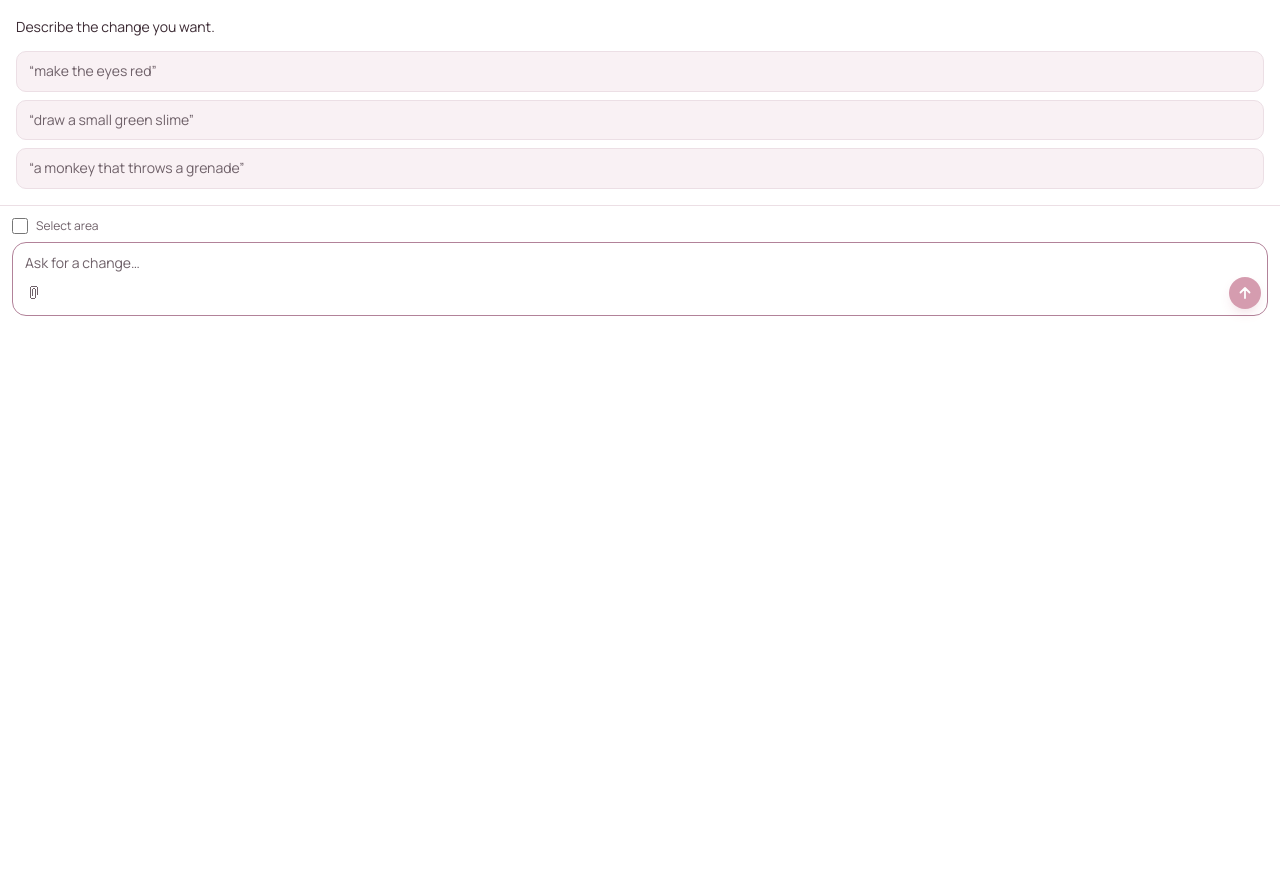
Test: AI chat submission › limits the outgoing history before the server decodes the request
The width and height of the screenshot is (1280, 893).
Check: the button named "Send" is disabled, box 1229,277 -> 1261,309
Type "draw a blood mage" into the text box named "Message" at (640, 260), box 13,243 -> 1267,277
(page scrolled)
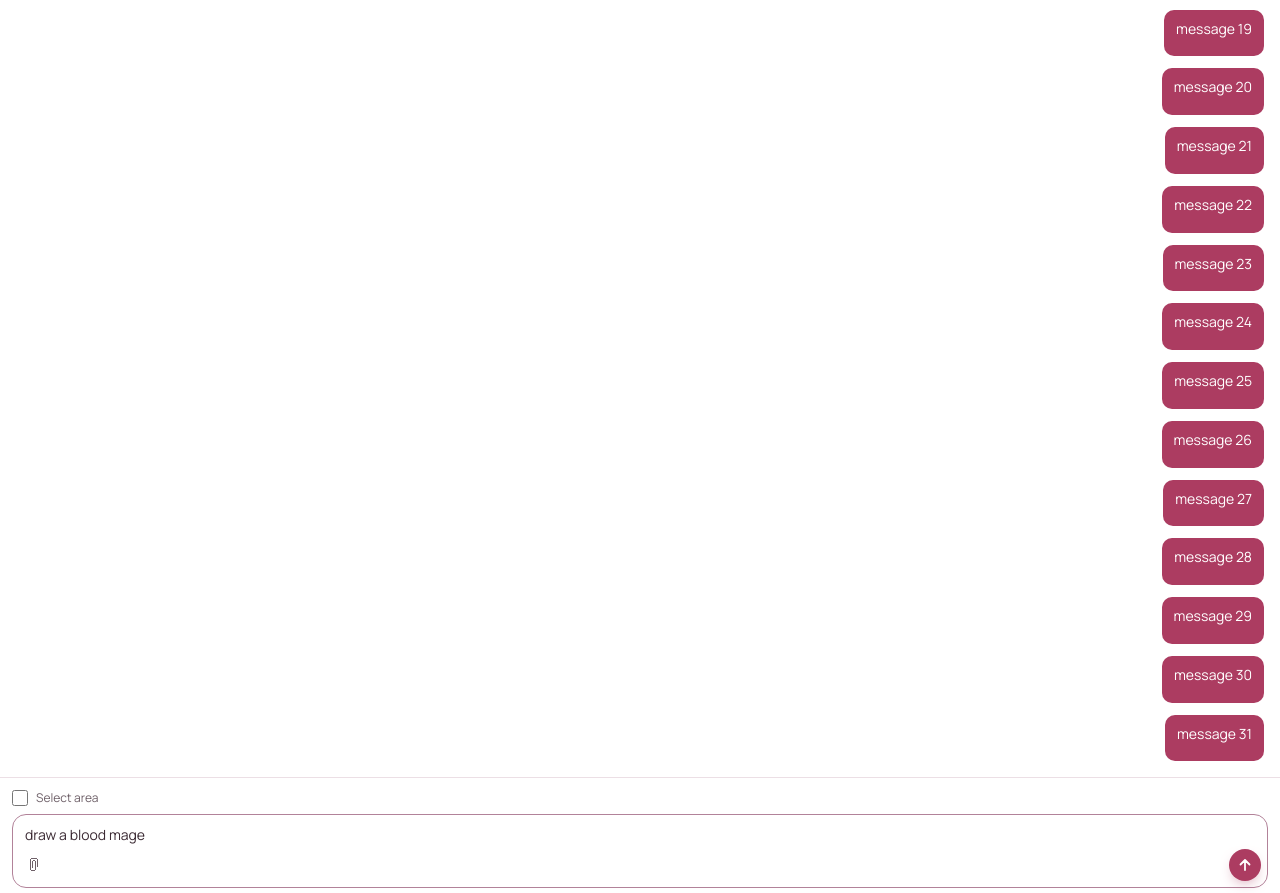
Check: the button named "Send" is enabled
Click the button named "Send" at (1245, 865), box 1229,849 -> 1261,881
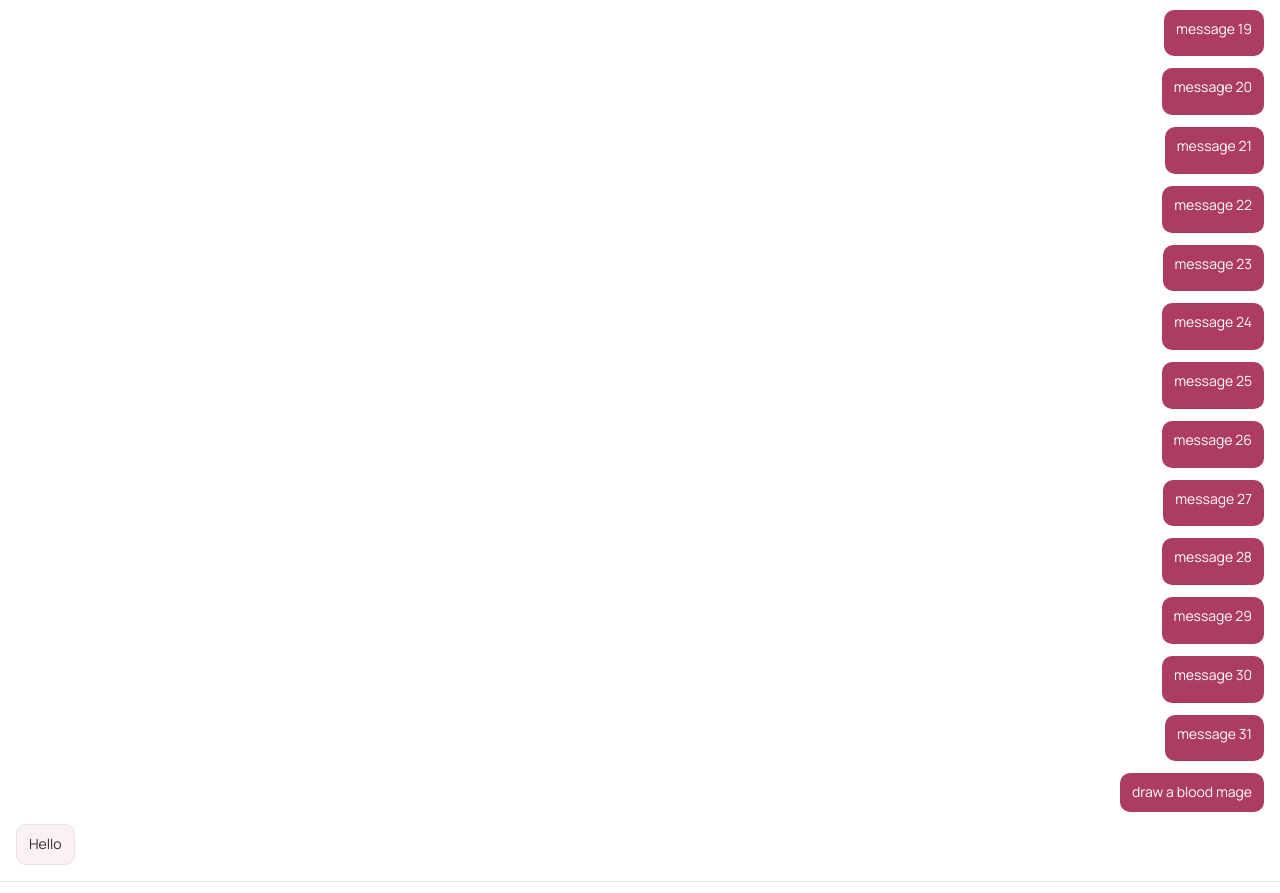
Check: the list item "draw a blood mage" is shown, box 1120,773 -> 1264,812
Check: the list item "Hello" is shown, box 16,824 -> 75,865
